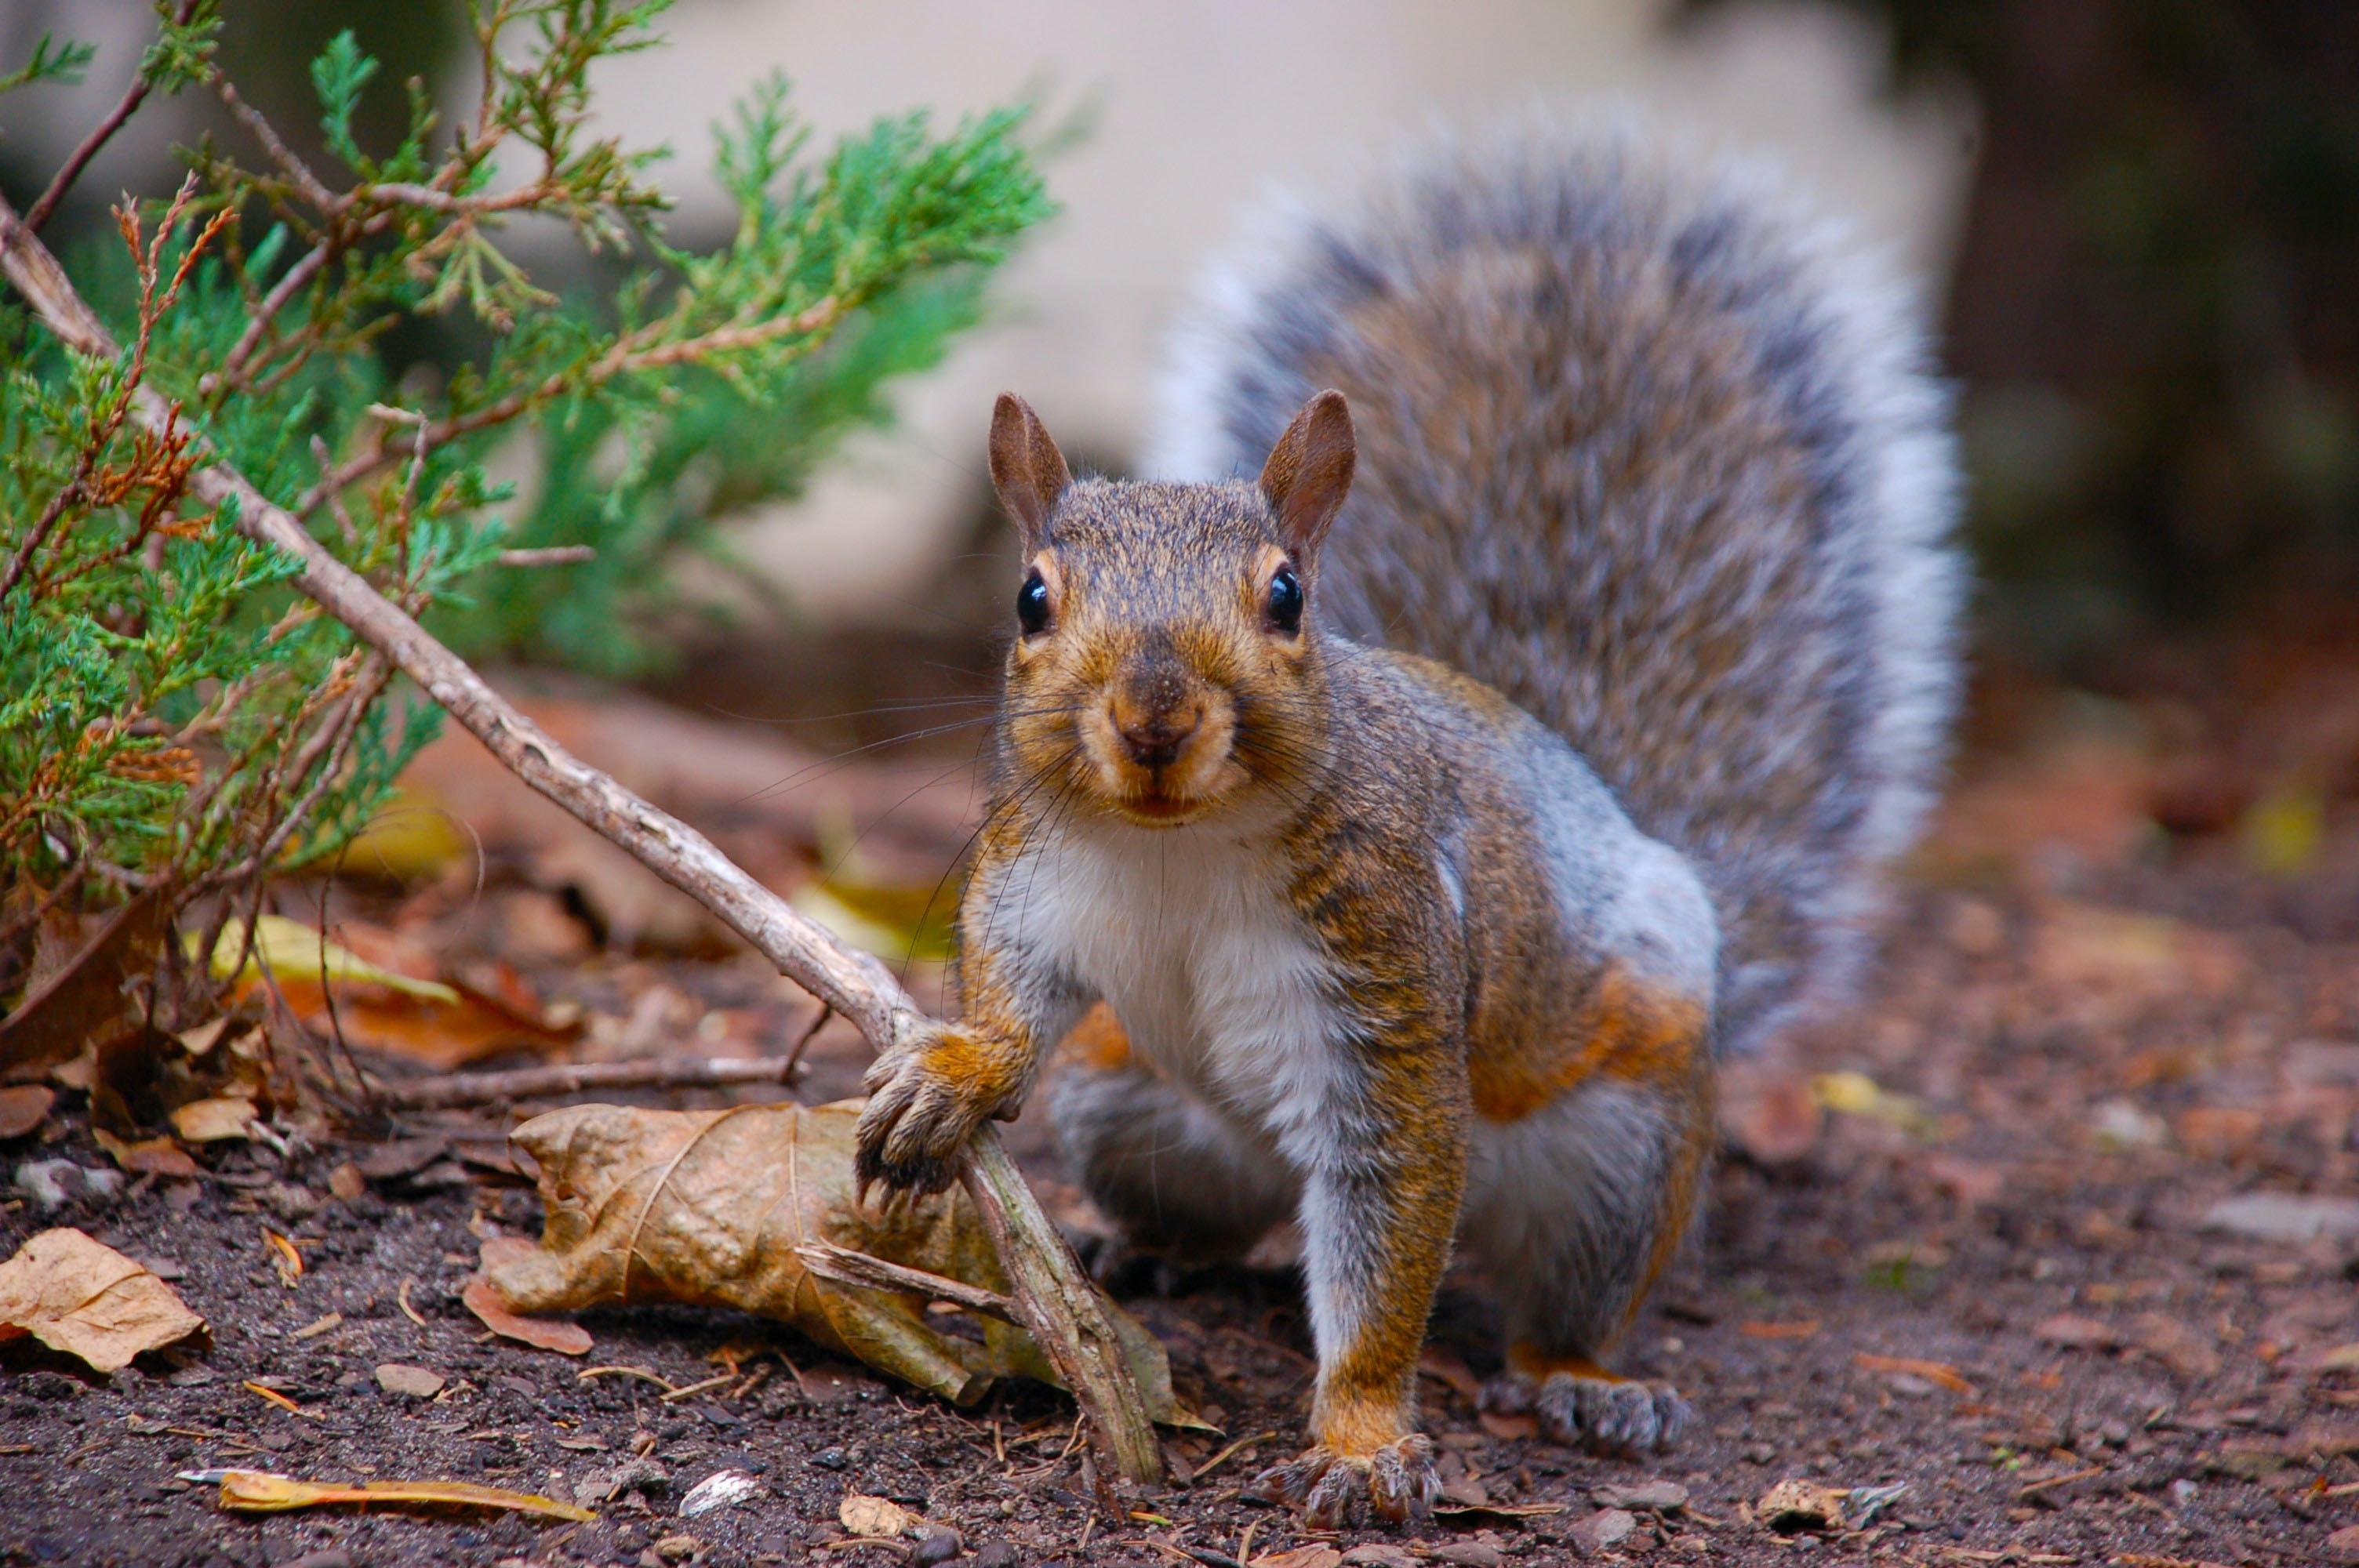squirrel: (863, 157, 1836, 1508)
